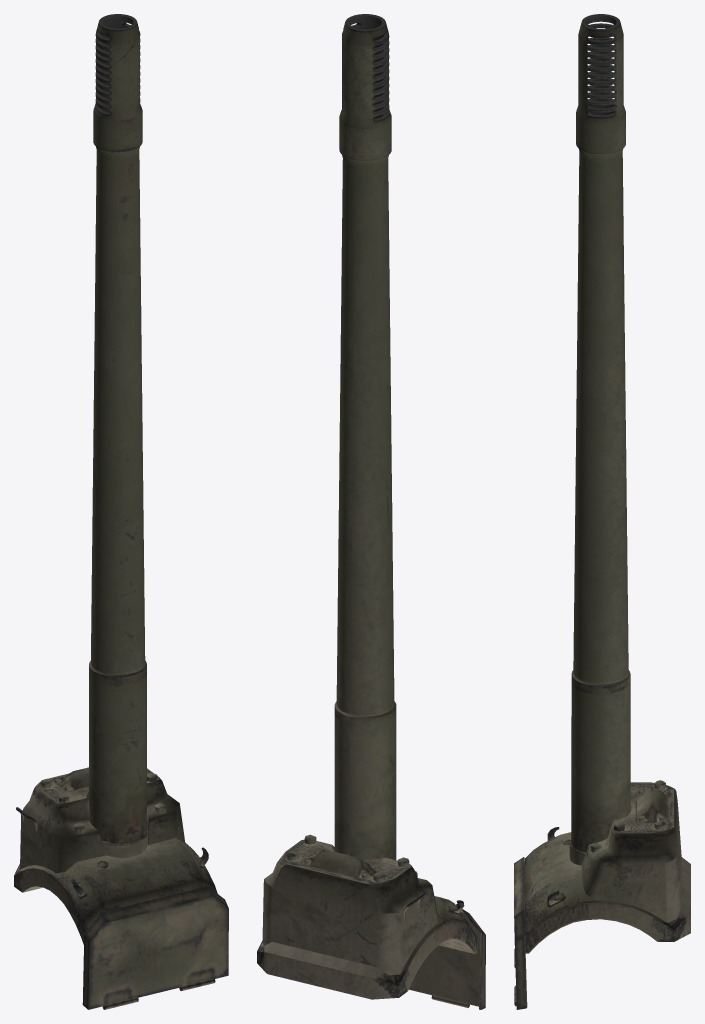
Rendered from Gun_03.glb.
The picture shows the model from 3 angles, left to right: view 1: azimuth 30°, elevation 25°; view 2: azimuth 150°, elevation 25°; view 3: azimuth 270°, elevation 25°; orthographic projection. The views are drawn at different scales.
Visible parts, largest first — view 1: set_0_group_0, set_0_group_1; view 2: set_0_group_0, set_0_group_1; view 3: set_0_group_0, set_0_group_1.
Part boxes in pixels (left/top/right/bottom): set_0_group_0: left=14, top=14, right=217, bottom=944; set_0_group_1: left=82, top=886, right=228, bottom=1009; set_0_group_0: left=257, top=14, right=477, bottom=999; set_0_group_1: left=409, top=909, right=485, bottom=1009; set_0_group_0: left=525, top=14, right=690, bottom=953; set_0_group_1: left=514, top=857, right=527, bottom=1009.
Bounding box in the file's own units: 0.8907 × 5.6 × 0.9365.
2 materials, 2 textured.
